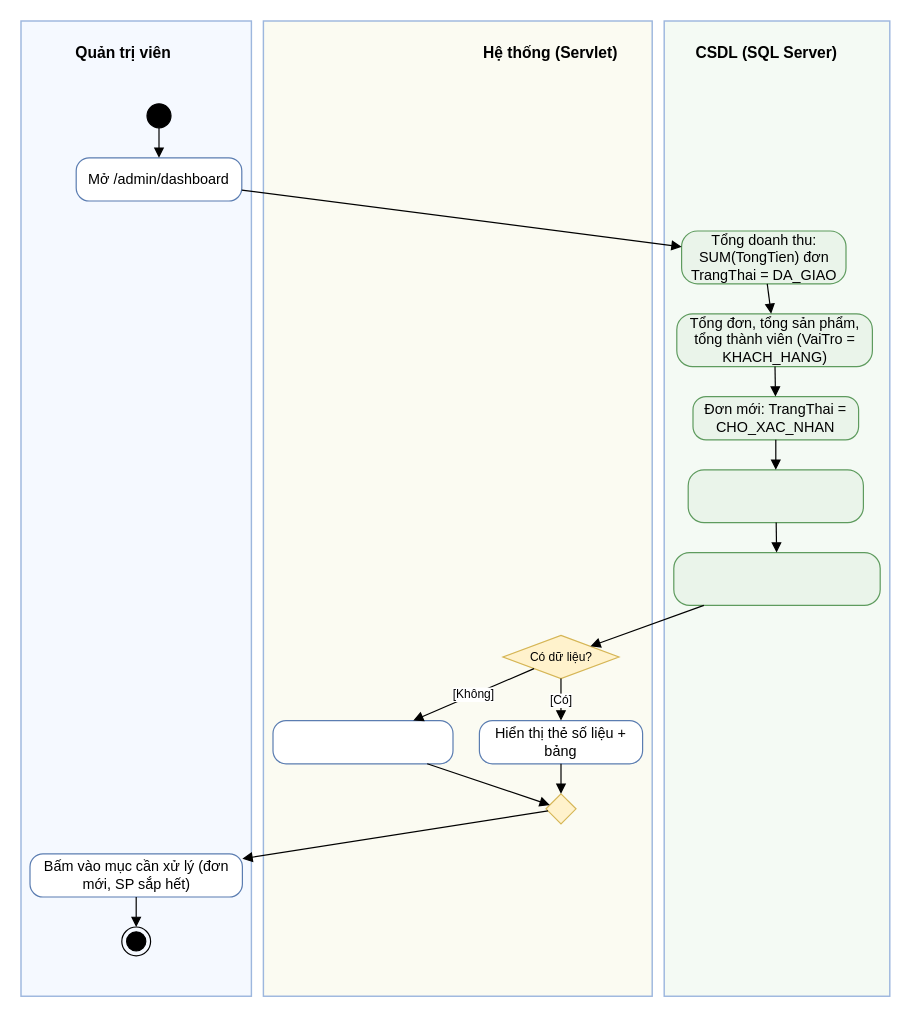
This 912x1018 diagram has some shape labels left out. Here are the shapes that lost their labels. From the top down, the box of each, then its label:
(687, 469, 863, 523): Top SP bán chạy: SUM(SoLuong) của đơn DA_GIAO
(673, 551, 880, 605): SP tồn kho thấp: SoLuongTon <= ngưỡng cấu hình (mặc định 5)
(272, 719, 453, 764): Hiển thị 0 / "Chưa có dữ liệu"
